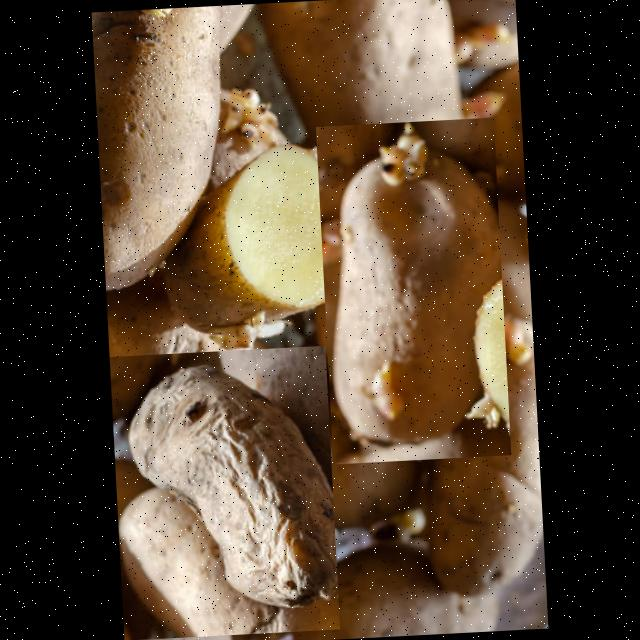Damaged potato: (110, 344, 340, 640)
Sprouted potato: (316, 116, 511, 464)
